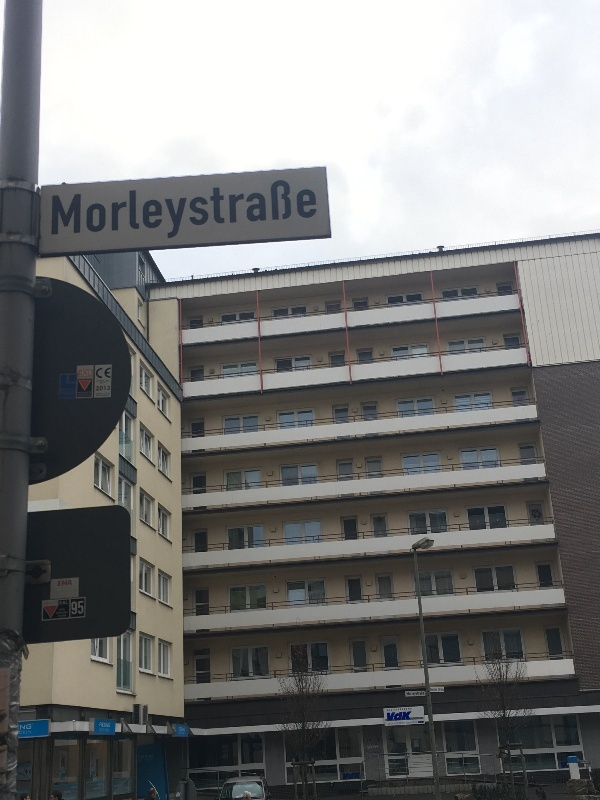text: (65, 178, 80, 243), (81, 178, 96, 243), (97, 178, 112, 243), (113, 178, 128, 243), (129, 178, 144, 243), (145, 178, 160, 243), (161, 178, 176, 243), (177, 178, 192, 243), (193, 178, 208, 243), (209, 178, 224, 243), (225, 178, 240, 243), (241, 178, 256, 243), (257, 178, 272, 243), (273, 178, 288, 243), (289, 178, 304, 243), (52, 178, 64, 243), (305, 178, 317, 243), (97, 368, 111, 379), (387, 712, 400, 722), (72, 601, 80, 615), (401, 712, 412, 722), (145, 754, 154, 765), (97, 385, 111, 392), (20, 724, 32, 730), (343, 773, 352, 781), (138, 754, 144, 765), (99, 723, 112, 728), (179, 727, 192, 732), (20, 730, 32, 735), (65, 579, 72, 587), (353, 773, 360, 781), (387, 708, 400, 712), (369, 745, 379, 750), (407, 692, 416, 697), (401, 708, 412, 712), (81, 601, 84, 615), (59, 579, 64, 587), (417, 692, 425, 697), (403, 722, 416, 725), (388, 723, 400, 726), (438, 688, 448, 691), (433, 688, 437, 692), (397, 723, 400, 726), (430, 688, 432, 692)
